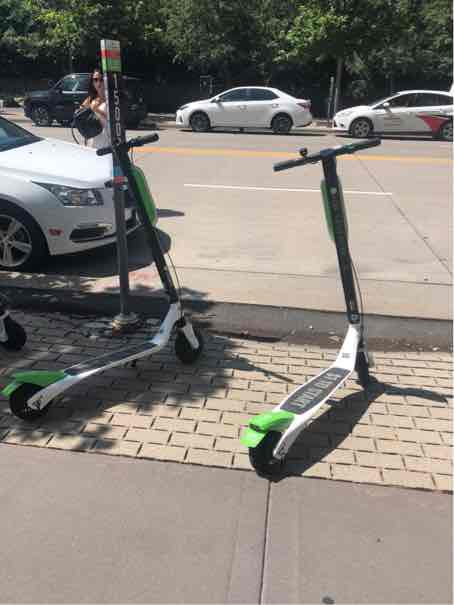scooter: (5, 132, 215, 424), (238, 127, 395, 483)
